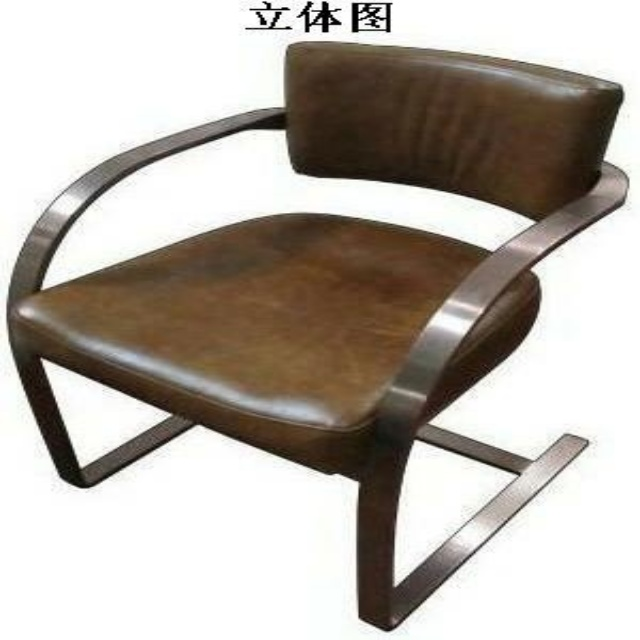obstacle: (6, 41, 625, 628)
